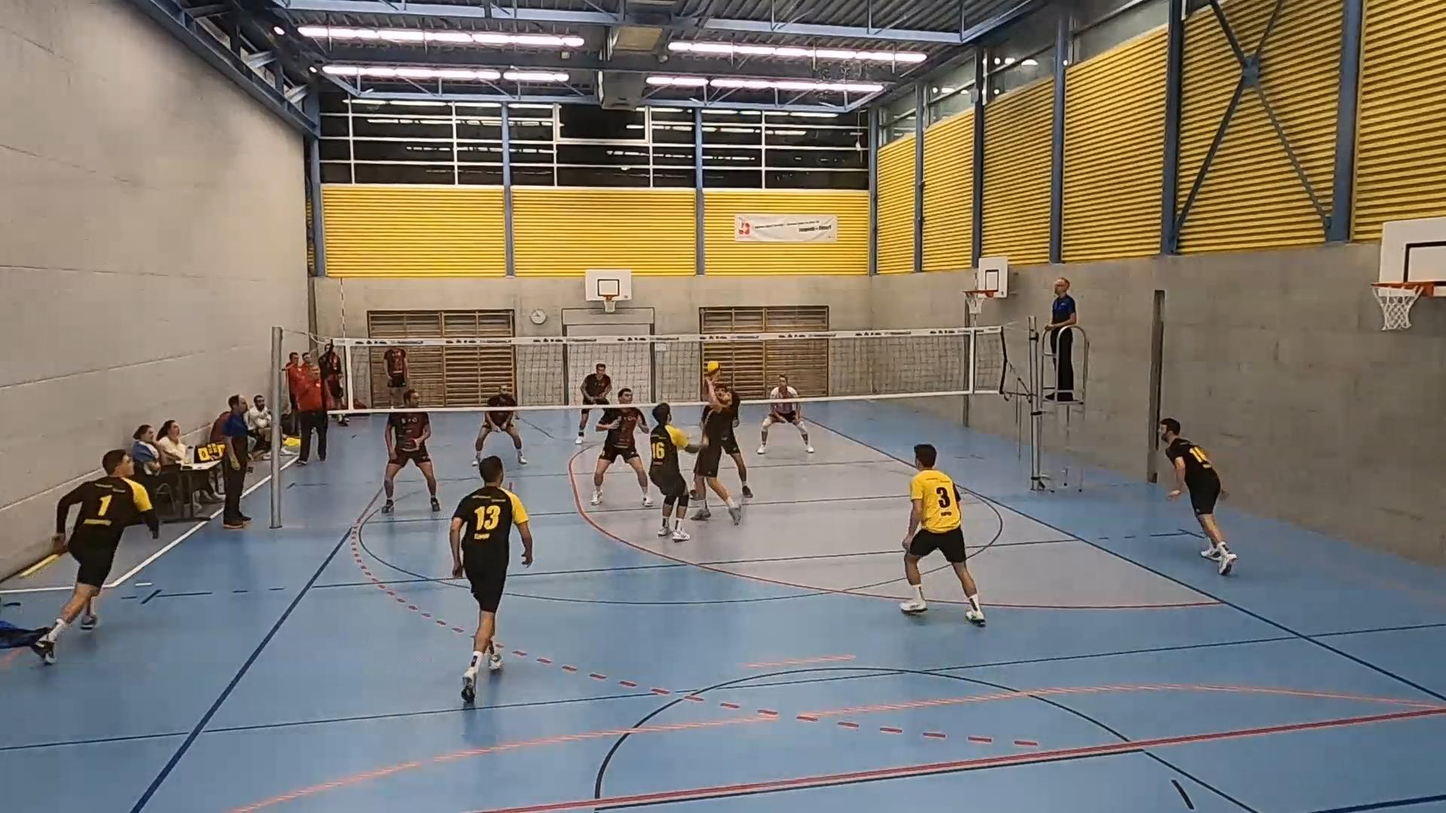Player: (31, 449, 158, 663), (450, 455, 532, 702), (900, 444, 984, 626), (1160, 418, 1237, 575), (381, 389, 440, 513), (591, 388, 652, 507), (648, 403, 698, 541), (758, 375, 813, 455), (474, 385, 526, 465), (721, 392, 752, 498), (580, 364, 612, 404)
Set: (693, 377, 749, 525)
ball: (705, 361, 723, 372)
